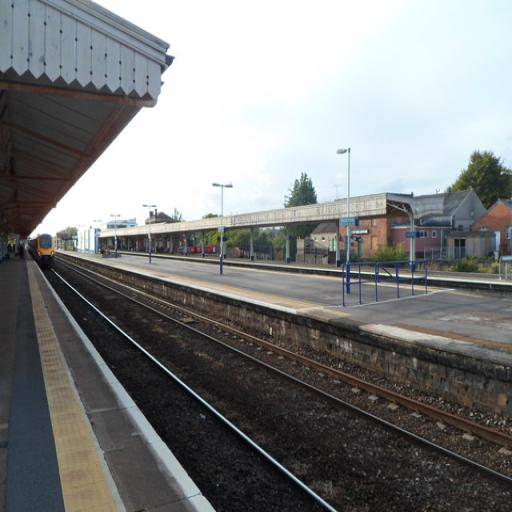platform_edge: (10, 358, 223, 512)
